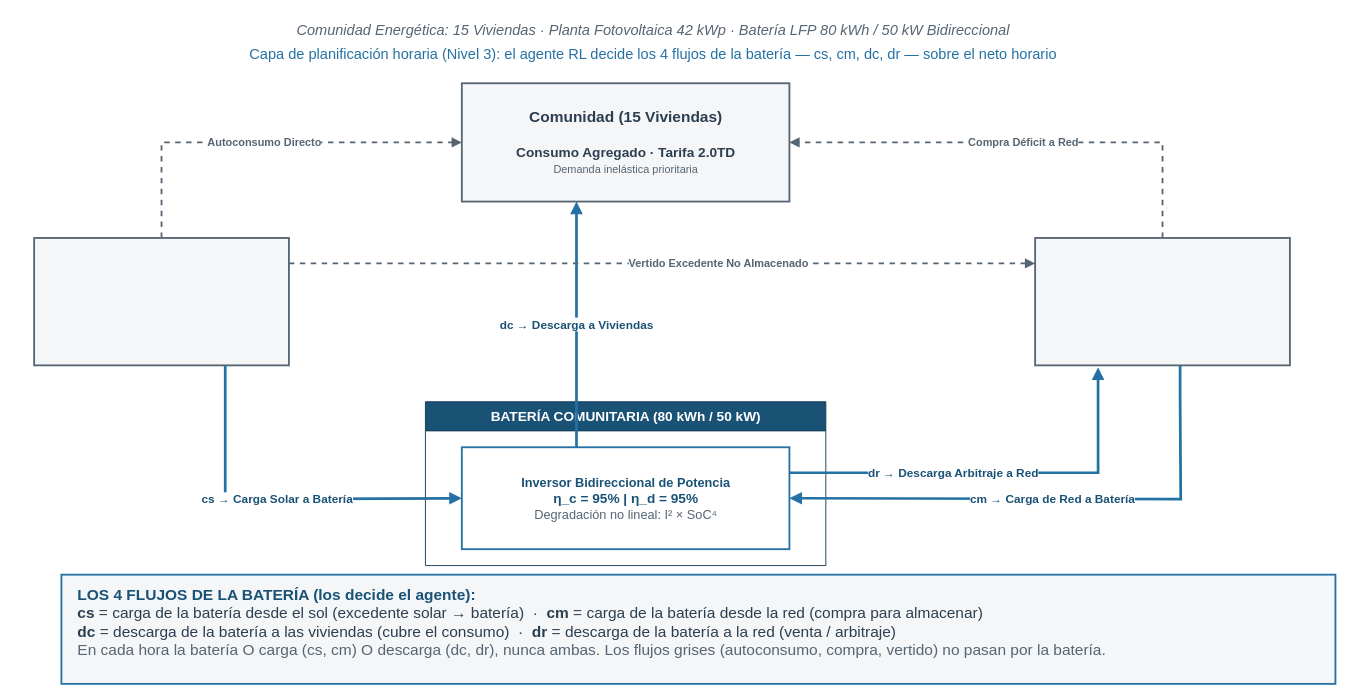
This 1351x700 diagram has some shape labels left out. The shapes that lost their labels are listed below. From the top down, each one's centre as x and y in pixels, then its label:
At point 161,301: "Generación Solar PV Potencia Pico: 42 kWp Curva histórica oficial PVGIS".
At point 1162,301: "Red Eléctrica (ESIOS) Compra: PVPC (1001) Venta Excedentes (1739)".
